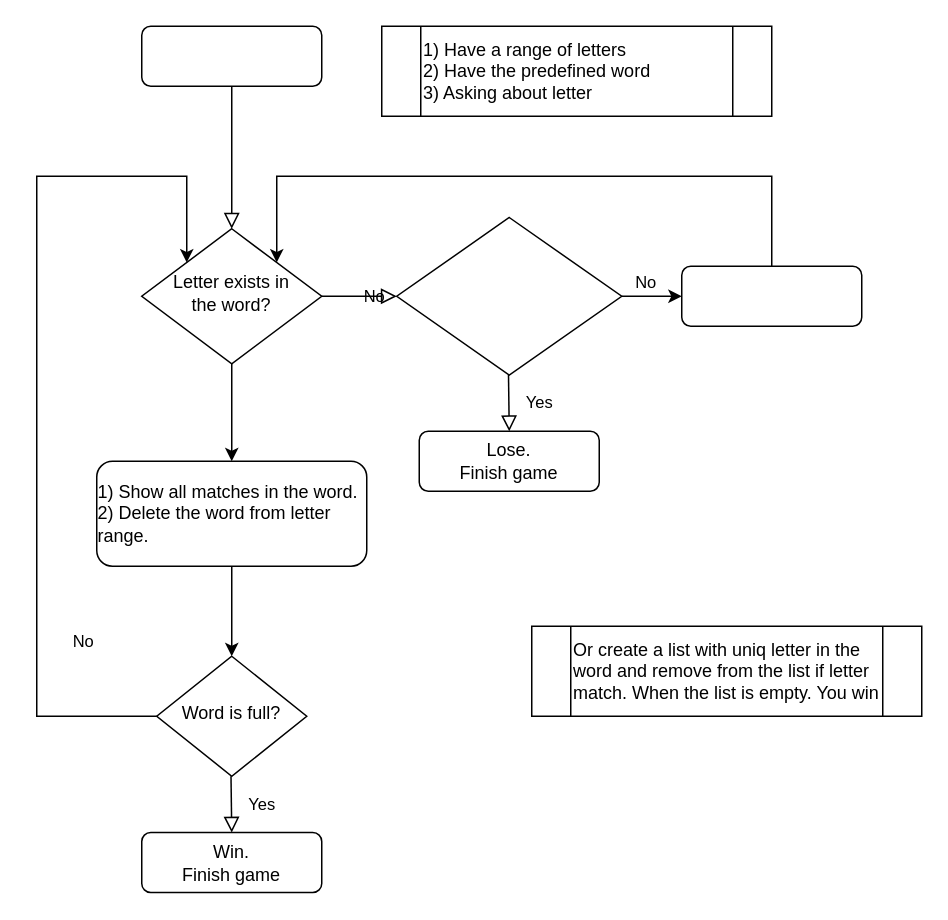
Some shapes in this 948 by 920 pixel diagram are drawn without their labels. The box of each missing label's shape, as (x1, y1, x2, y2) in pixels:
Create the element of hangman: (680, 265, 862, 326)
Reached the limit of elements?: (395, 216, 622, 375)
Start: (140, 25, 322, 86)
